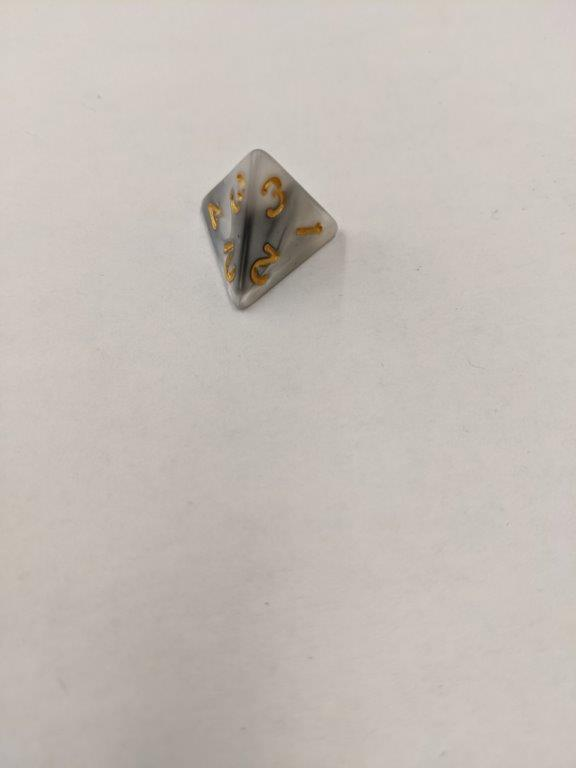d4-3: (197, 147, 340, 317)
